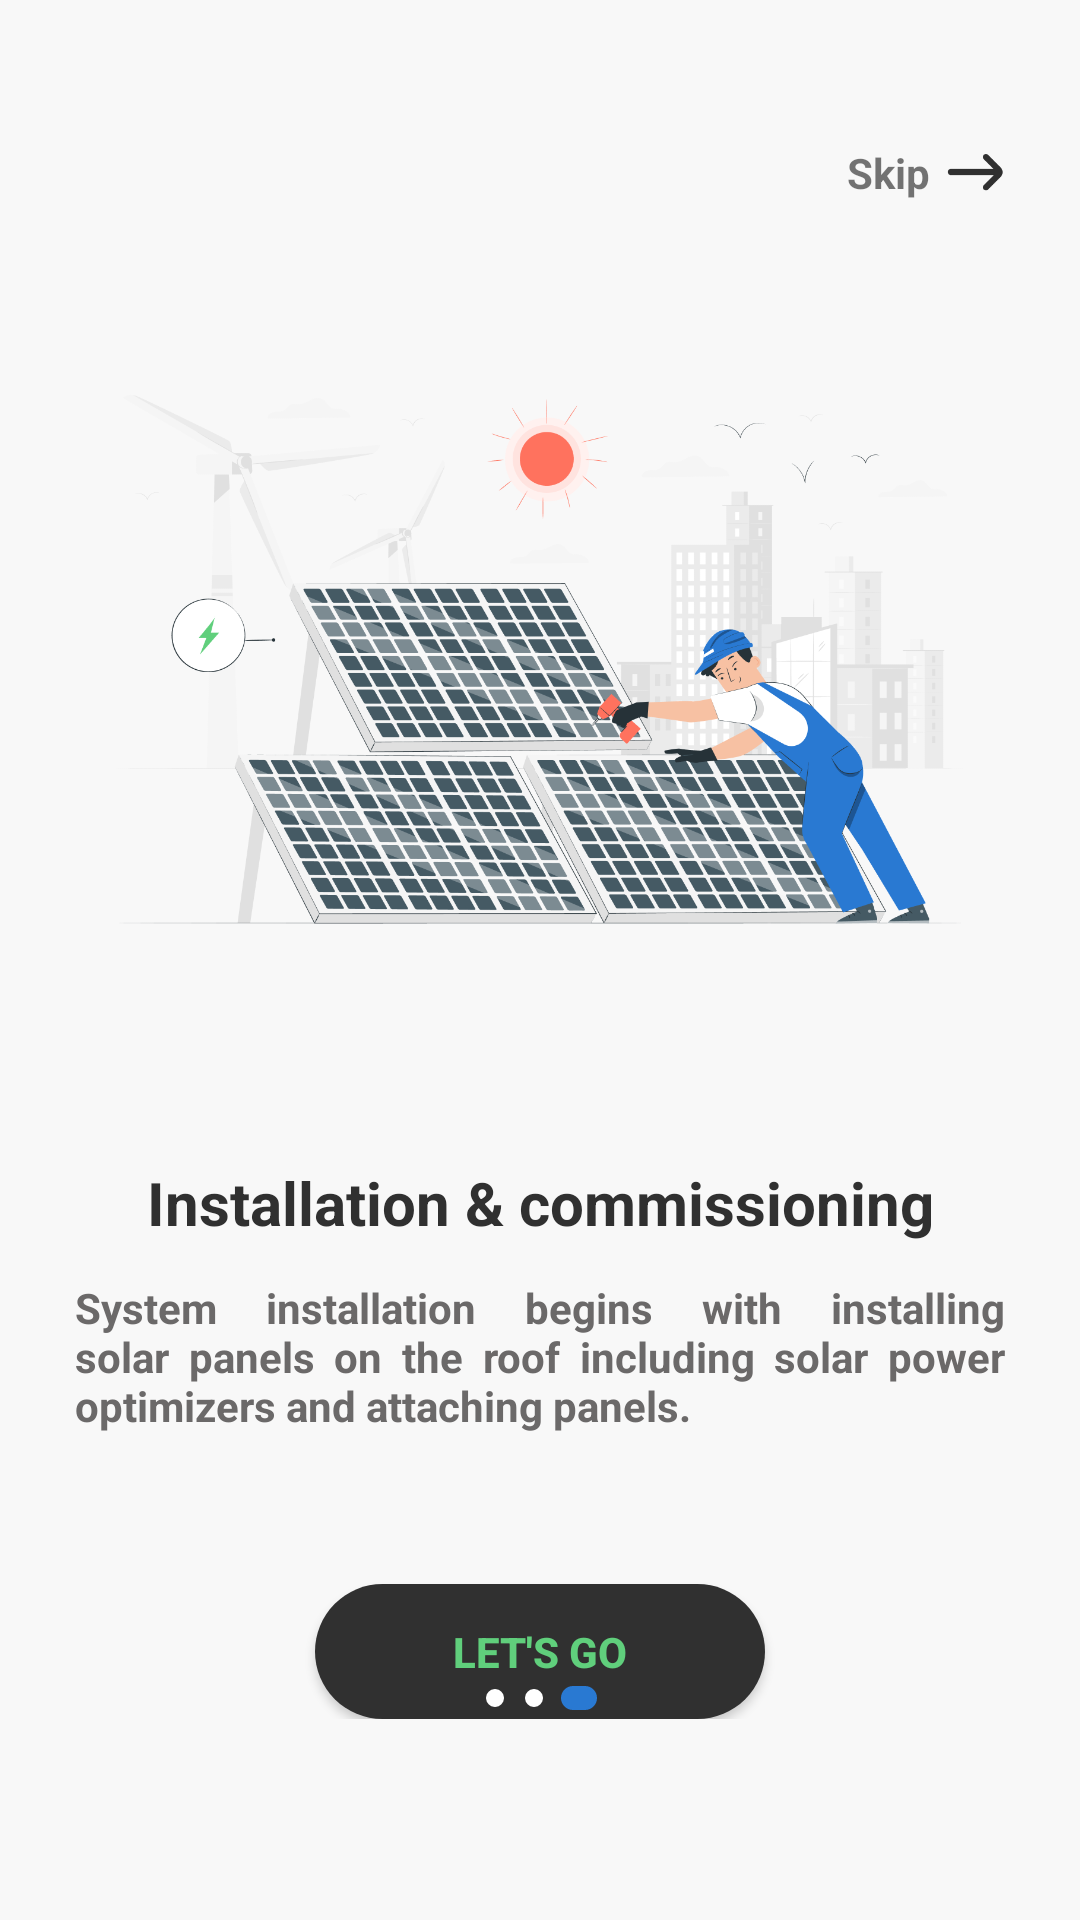

Screen size 1080x1920. Icon name, then its box in pixels as (x1, y1, x2, y2):
next arrow: (948, 154, 1003, 191)
